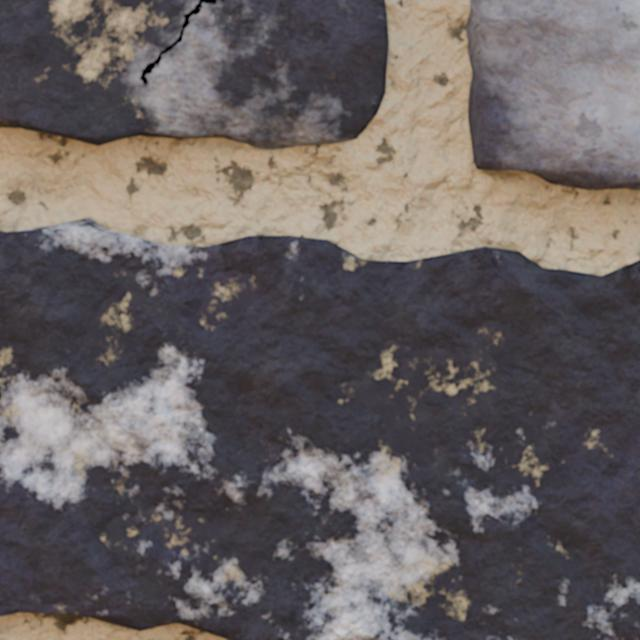crack: (0, 218, 639, 639), (0, 0, 388, 149), (466, 0, 639, 190)
